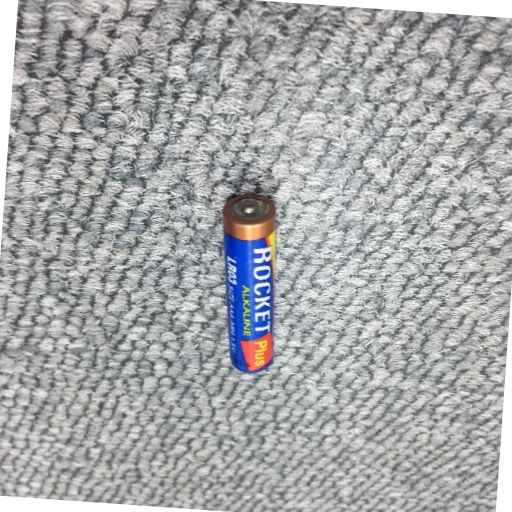Battery_0: (213, 185, 289, 384)
